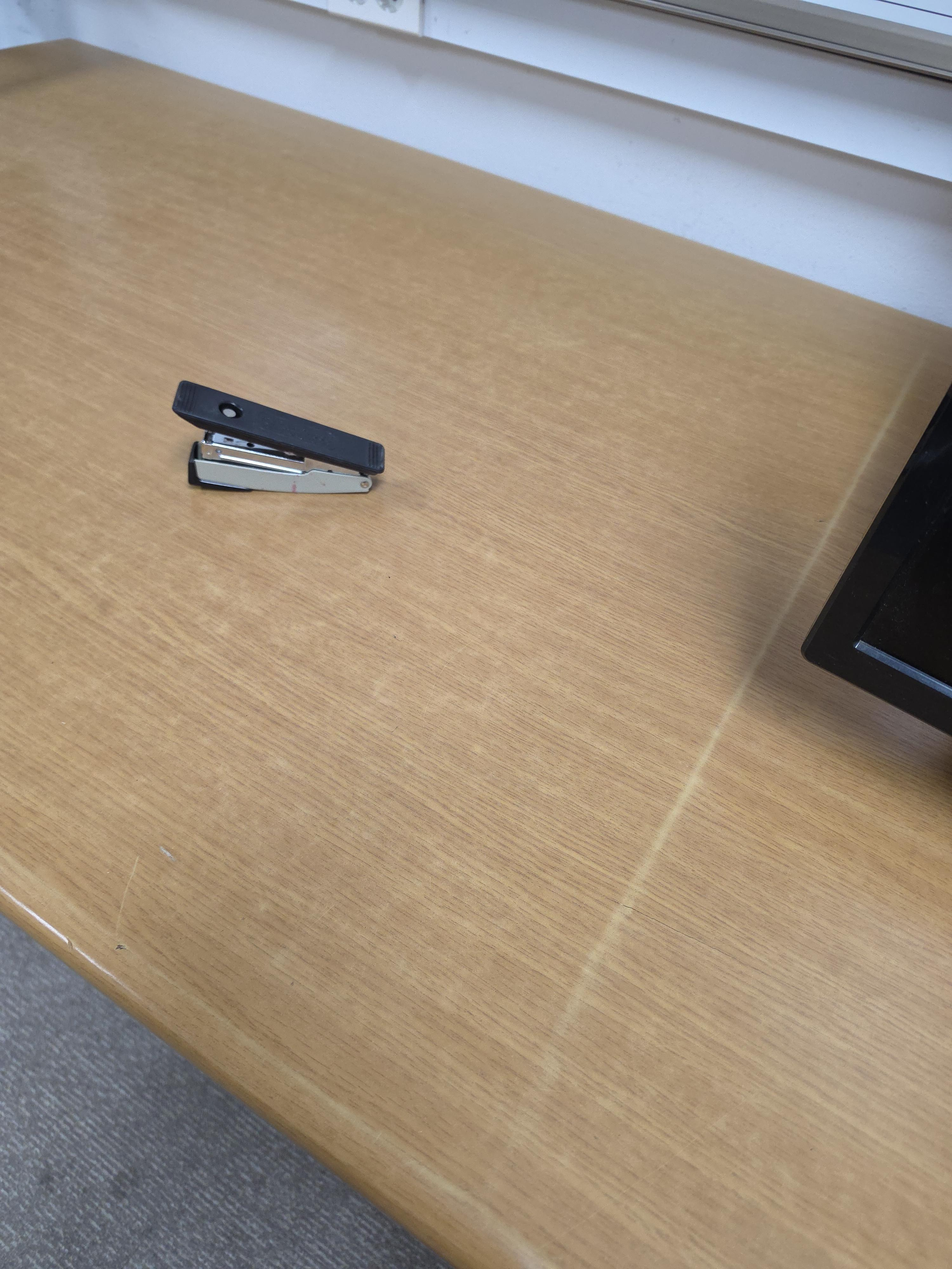stapler: (172, 380, 386, 495)
